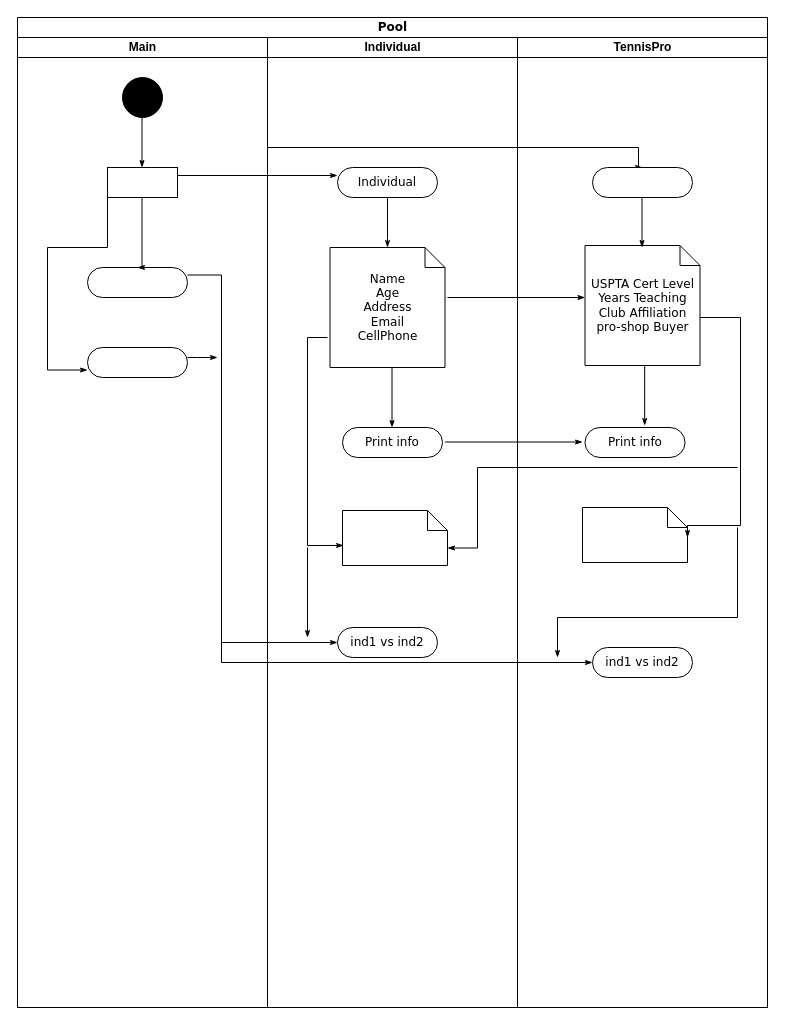
Image size: 785x1025. Some labels were removed from this diagram. Each missing label, with the centre of its shape:
"Compare age" belongs at [137,282].
"Compare Cert level" belongs at [137,362].
"Create instances" belongs at [142,182].
"Number of individuals" belongs at [395,538].
"Number of Tennis Pros" belongs at [635,534].
"Tennis Pro" belongs at [642,182].
